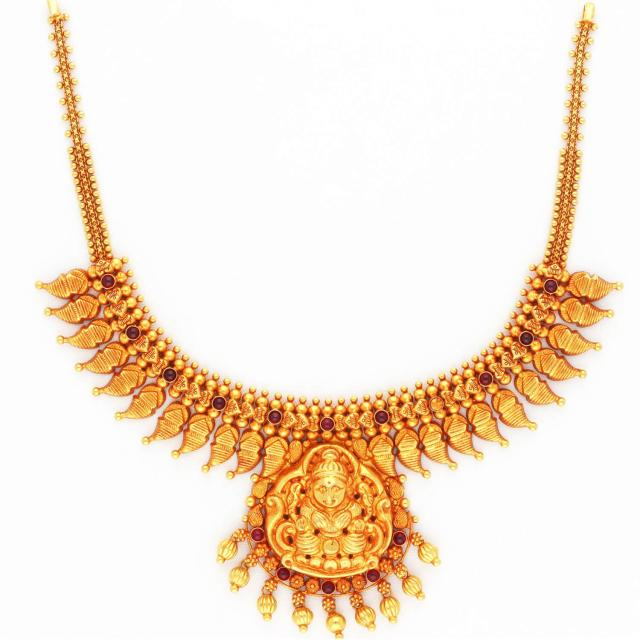missing gem: (430, 397, 443, 411)
